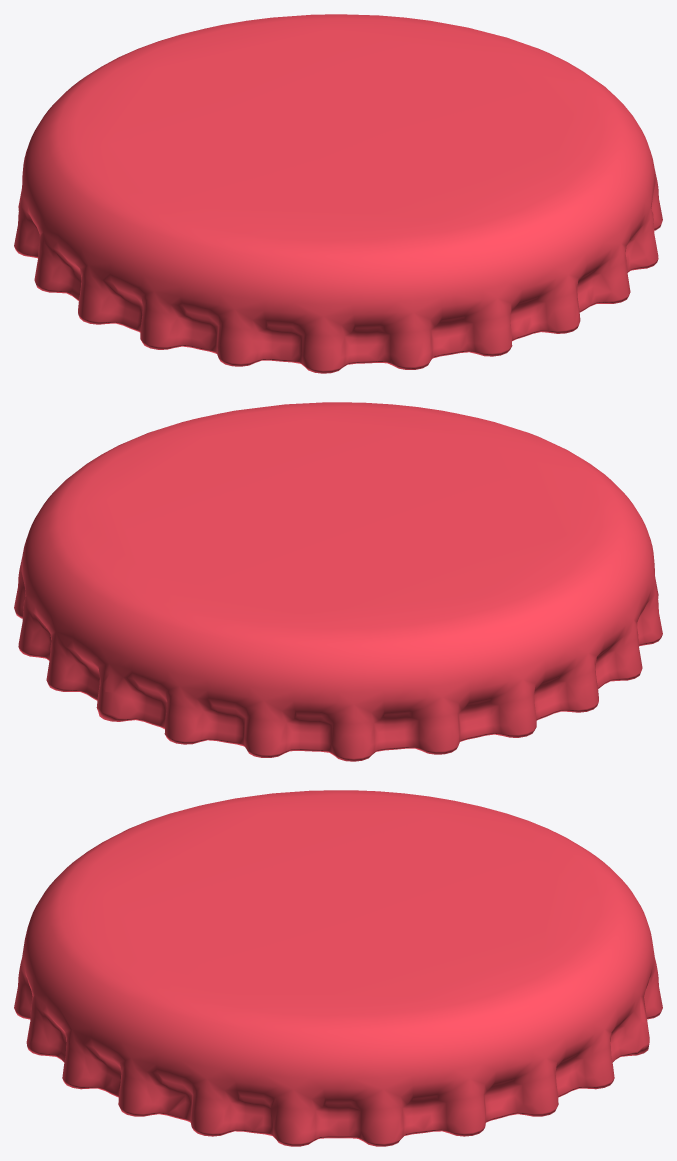
Rendered from BeerCap.glb.
The picture shows the model from 3 angles, top to bottom: view 1: azimuth 30°, elevation 25°; view 2: azimuth 150°, elevation 25°; view 3: azimuth 270°, elevation 25°; orthographic projection.
Visible parts, largest first — view 1: pCylinder1; view 2: pCylinder1; view 3: pCylinder1.
Boxes of the visible parts, box(x1,y1,x2,y2) form: pCylinder1: box(14, 14, 662, 373); pCylinder1: box(14, 402, 662, 761); pCylinder1: box(14, 790, 662, 1146).
Bounding box in the file's own units: 15.92 × 2.94 × 16.08.
